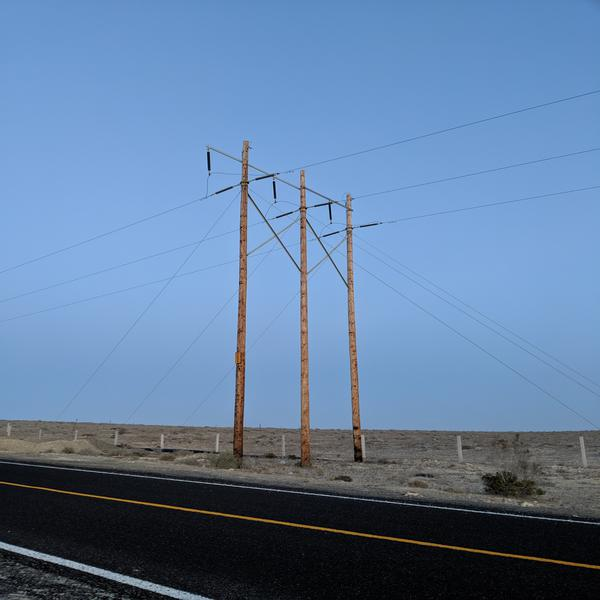utility_pole: (203, 133, 274, 219), (277, 163, 330, 243), (324, 185, 374, 261)
